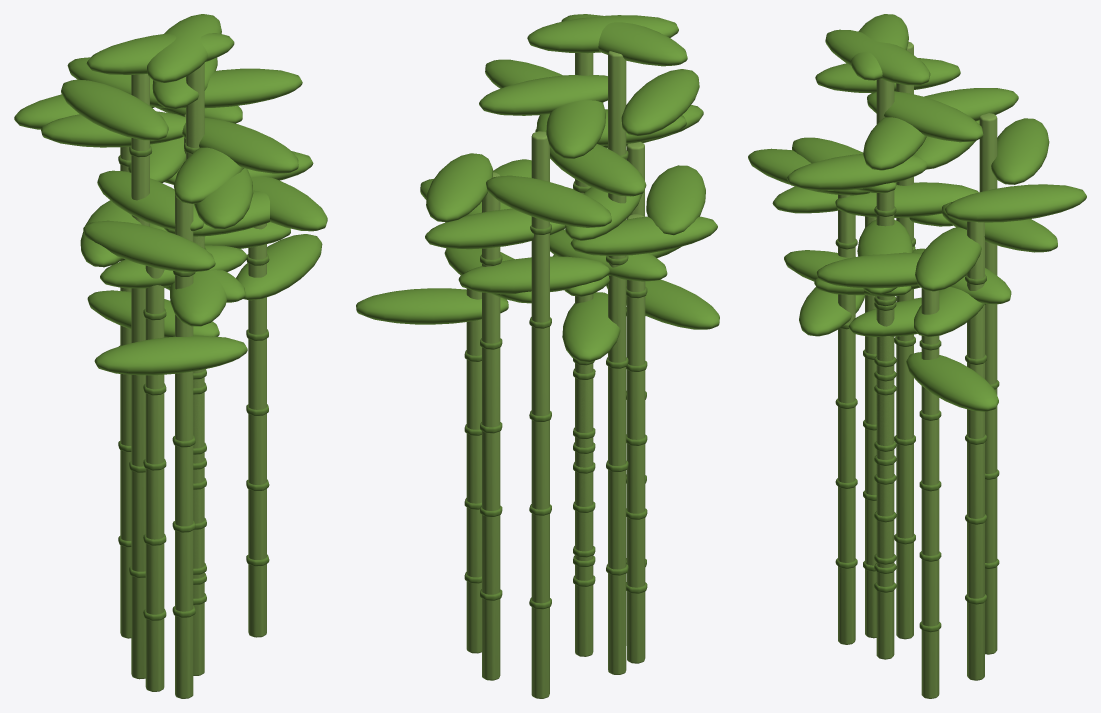
File: veg_bambu.glb
The picture shows the model from 3 angles, left to right: view 1: azimuth 30°, elevation 25°; view 2: azimuth 150°, elevation 25°; view 3: azimuth 270°, elevation 25°; orthographic projection. The views are drawn at different scales.
Visible parts, largest first — view 1: veg_bambu; view 2: veg_bambu; view 3: veg_bambu.
Boxes of the visible parts, x1,y1,x2,y2 form: veg_bambu: [14, 14, 327, 698]; veg_bambu: [356, 14, 719, 698]; veg_bambu: [748, 14, 1086, 698].
Size of the model in its own units: 3.1 by 6.44 by 3.27.
